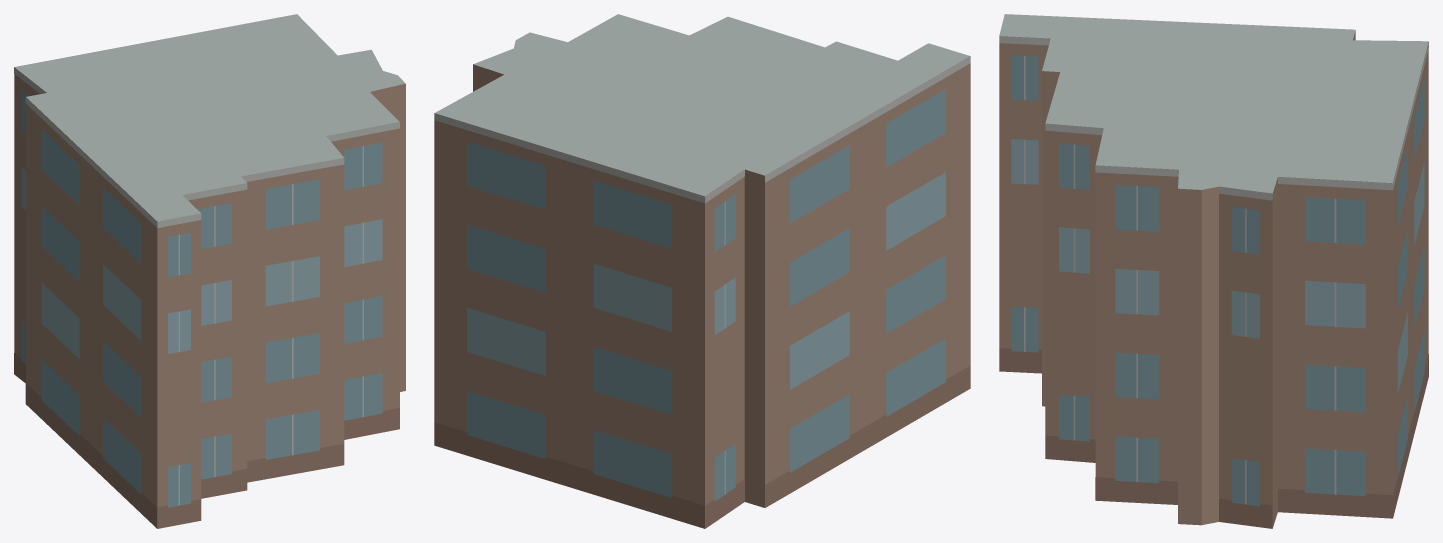
The model's file is survey-upis-32475547.glb.
The picture shows the model from 3 angles, left to right: view 1: azimuth 30°, elevation 25°; view 2: azimuth 150°, elevation 25°; view 3: azimuth 270°, elevation 25°; orthographic projection. The views are drawn at different scales.
Visible parts, largest first — view 1: survey-upis-32475547.tmp; view 2: survey-upis-32475547.tmp; view 3: survey-upis-32475547.tmp.
Boxes of the visible parts, left/top/right/bottom form: survey-upis-32475547.tmp: left=14, top=14, right=405, bottom=528; survey-upis-32475547.tmp: left=434, top=14, right=970, bottom=528; survey-upis-32475547.tmp: left=999, top=14, right=1428, bottom=528.
Bounding box in the file's own units: 13.21 × 11.5 × 13.36.
